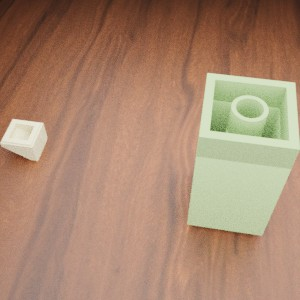lego: (186, 72, 299, 235), (0, 119, 47, 161)
